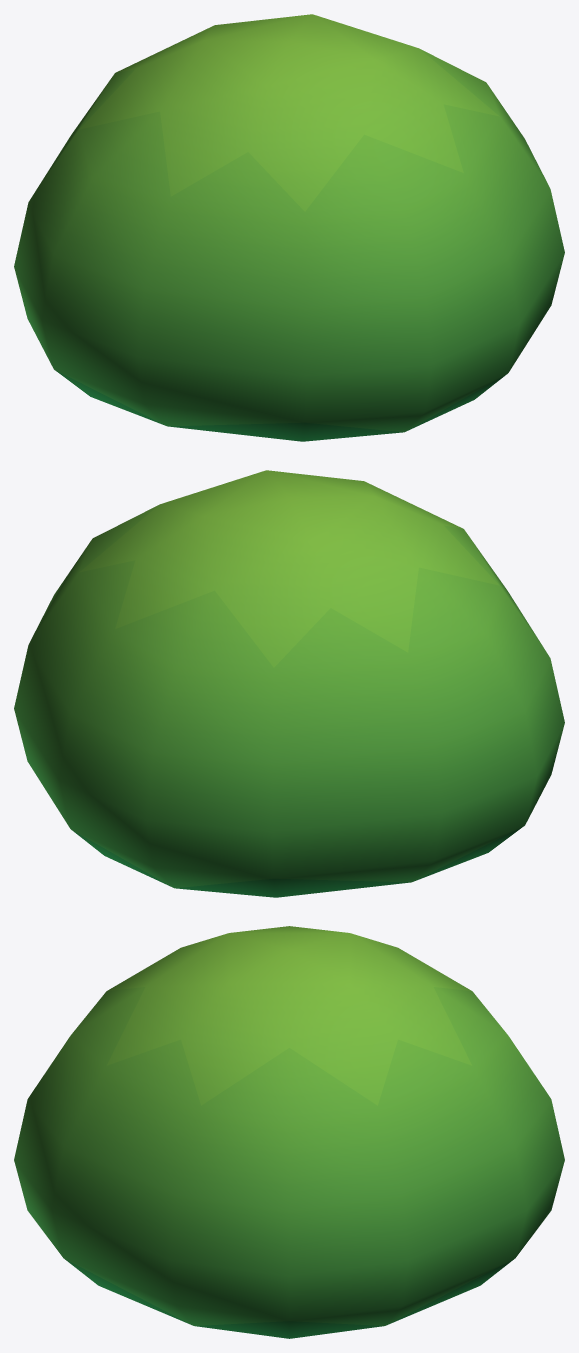
File: Rock1D.glb
3 views of the same model, one above another, from view 1: azimuth 30°, elevation 25°; view 2: azimuth 150°, elevation 25°; view 3: azimuth 270°, elevation 25° (orthographic). The views are drawn at different scales.
Visible parts, largest first — view 1: Bush_1_D_Color1; view 2: Bush_1_D_Color1; view 3: Bush_1_D_Color1.
Part boxes in pixels (<box>): Bush_1_D_Color1: <box>14,14,564,441</box>; Bush_1_D_Color1: <box>14,470,564,897</box>; Bush_1_D_Color1: <box>14,926,564,1338</box>.
Size of the model in its own units: 1.57 by 0.9937 by 1.57.
Materials: 1 (1 with a texture image).
